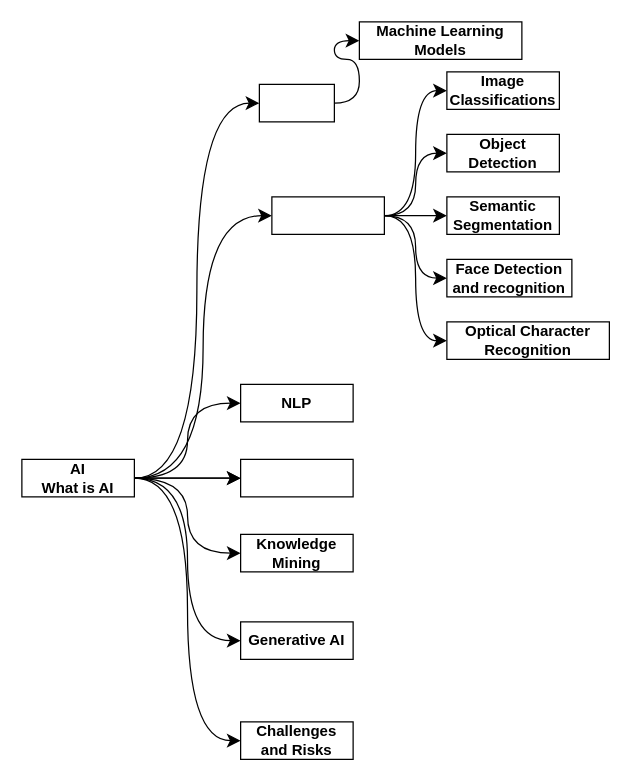
Some shapes in this 631 by 781 pixel diagram are drawn without their labels. The shapes that lost their labels are listed below. From the top down, each one's centre as x and y in pixels, then its label:
At [296,102]: "Machine Learning".
At [327,215]: "Computer vision".
At [296,477]: "Document Intelligence".
